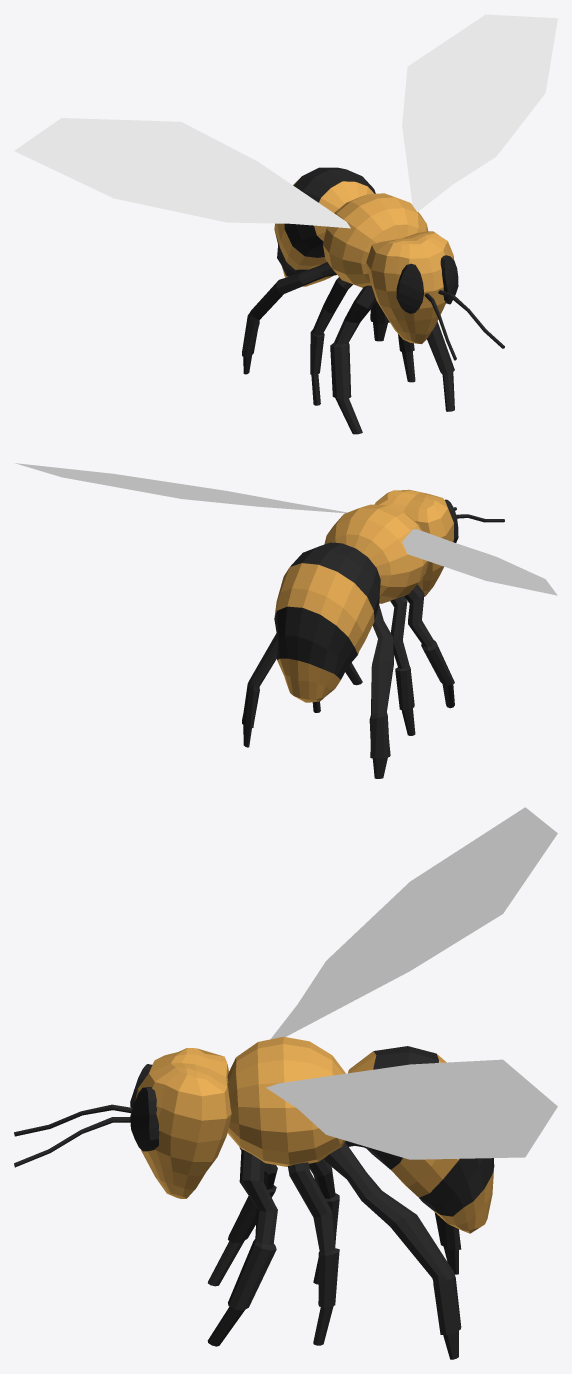
The model's file is Bee.fbx.
3 renders of one model, top to bottom at view 1: azimuth 30°, elevation 25°; view 2: azimuth 150°, elevation 25°; view 3: azimuth 270°, elevation 25°, orthographic. The views are drawn at different scales.
Visible parts, largest first — view 1: Bee; view 2: Bee; view 3: Bee.
Part boxes in pixels (x1=…): Bee: x1=14, y1=14, x2=557, y2=434; Bee: x1=14, y1=463, x2=557, y2=778; Bee: x1=14, y1=807, x2=557, y2=1359.
Size of the model in its own units: 72.21 by 33.2 by 47.39.
